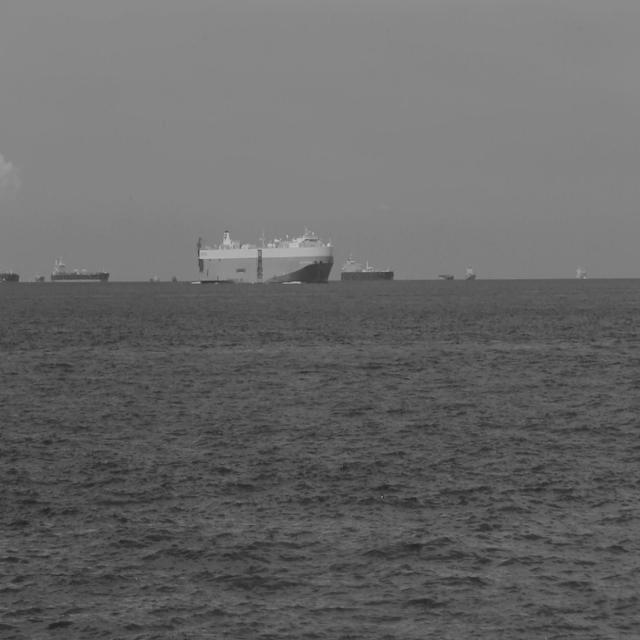boat: (149, 273, 160, 283)
ship: (195, 226, 334, 286), (50, 255, 110, 285), (340, 254, 394, 282), (0, 264, 20, 285), (465, 264, 477, 282), (574, 263, 586, 280), (34, 269, 45, 285), (437, 273, 454, 281), (1, 276, 8, 283)
